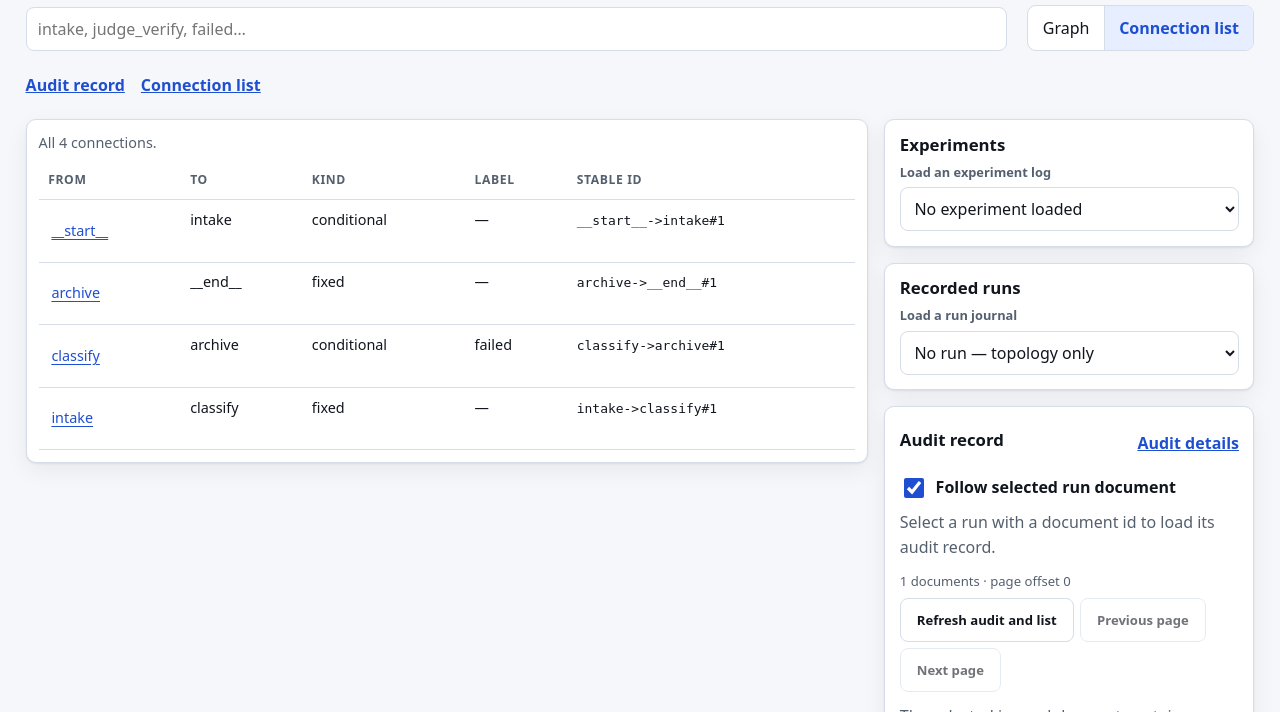
Scenario: recorded run playback › Stop halts advancement where it is
(page scrolled)
Expected: the text "All 4 connections." is shown, 39,133 -> 157,152
Select "real-doc.txt — contract / archived" in the dropdown labelled "Load a run journal": (1069, 353) 900,331 -> 1239,375
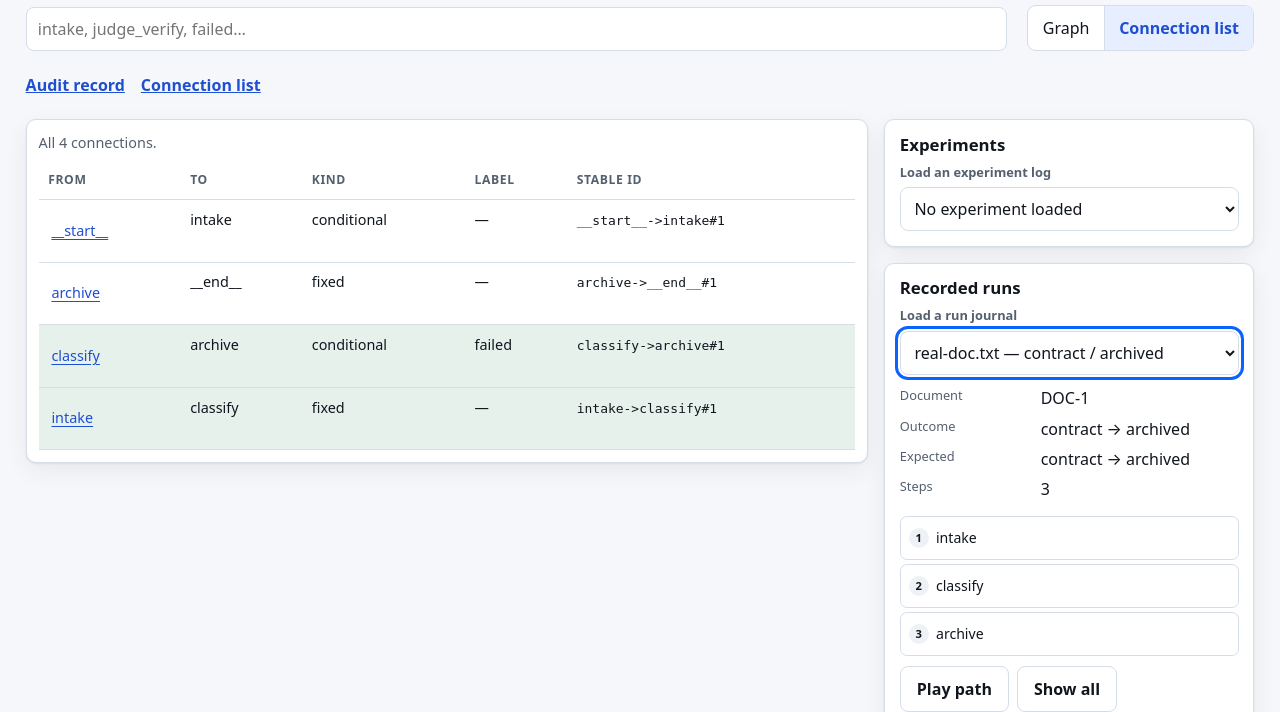
Click the button "Play path": (954, 689) 900,666 -> 1009,711
Wait 900 ms
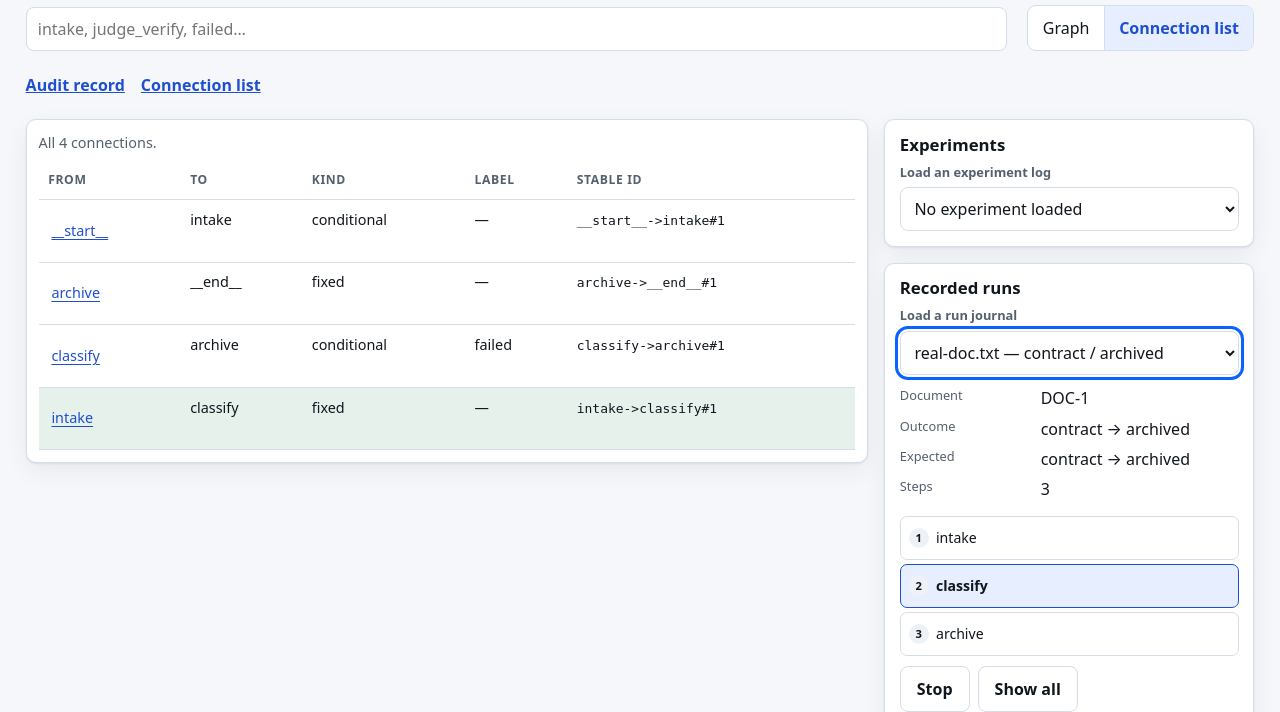
Click the button "Stop": (935, 689) 900,666 -> 970,711
Wait 10000 ms
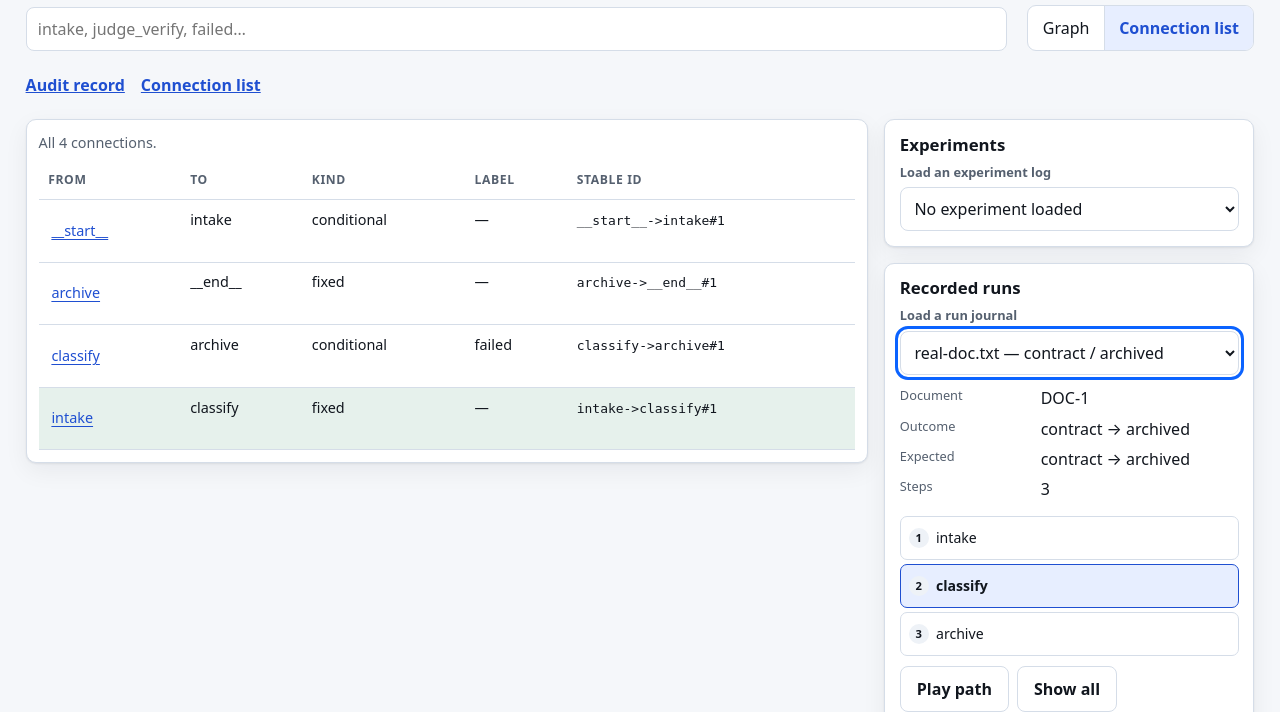
Expected: the button "Play path" is shown, 900,666 -> 1009,711
